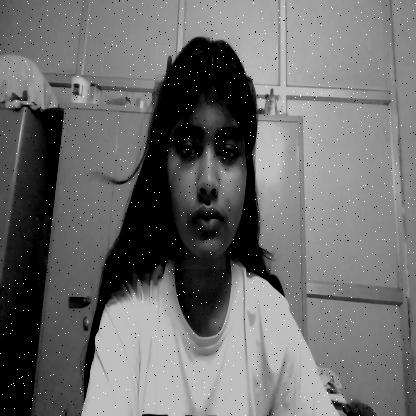Normal: (155, 45, 252, 269)
